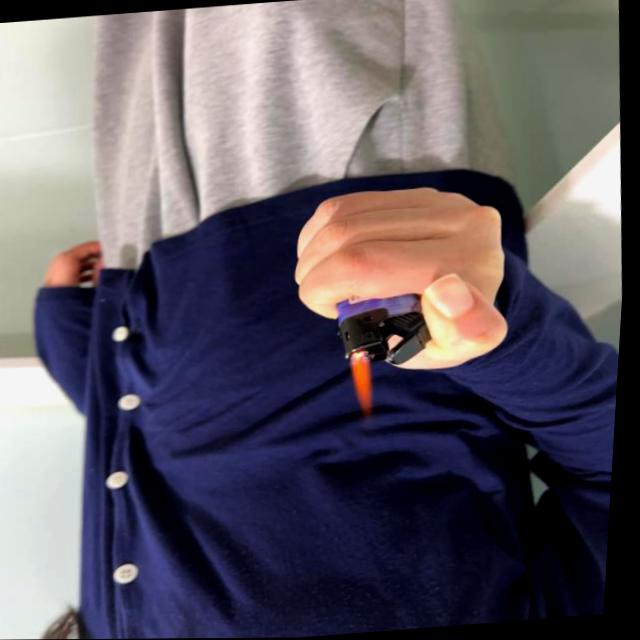Fire: (346, 349, 385, 424)
